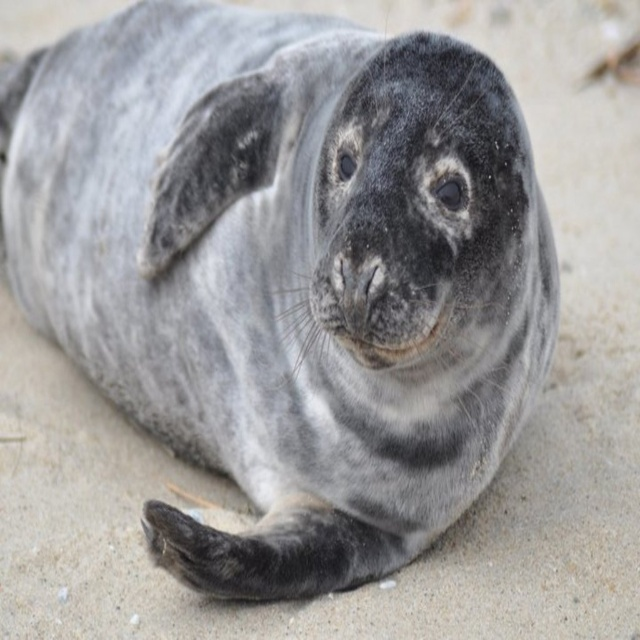Harbor seal: (0, 0, 562, 604)
